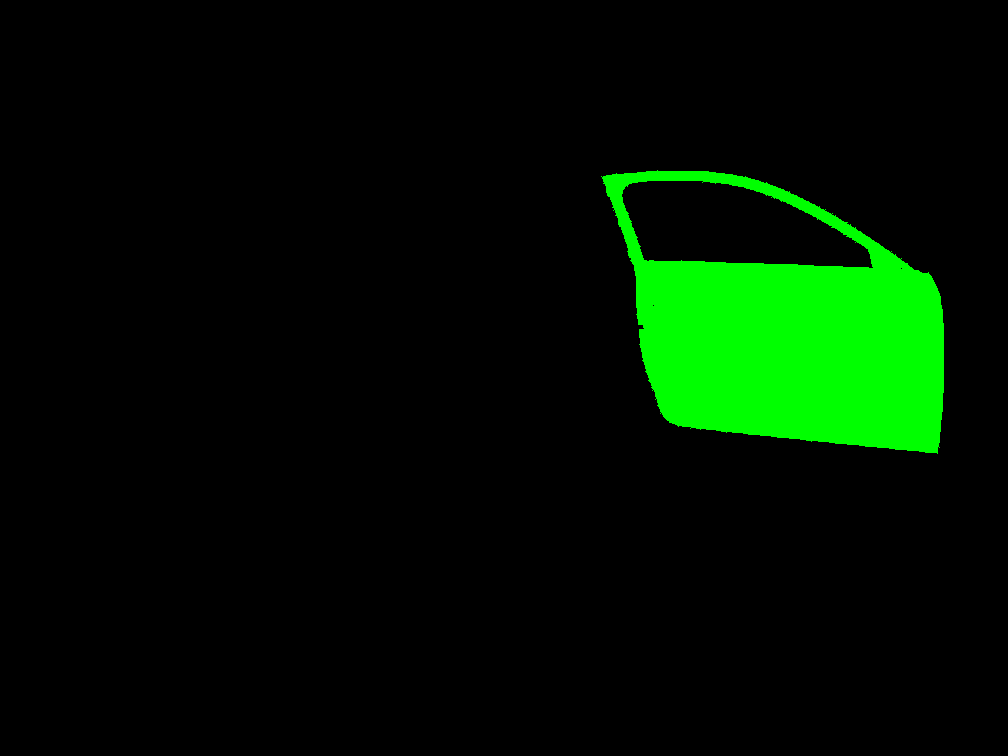car_door: (601, 170, 943, 453)
